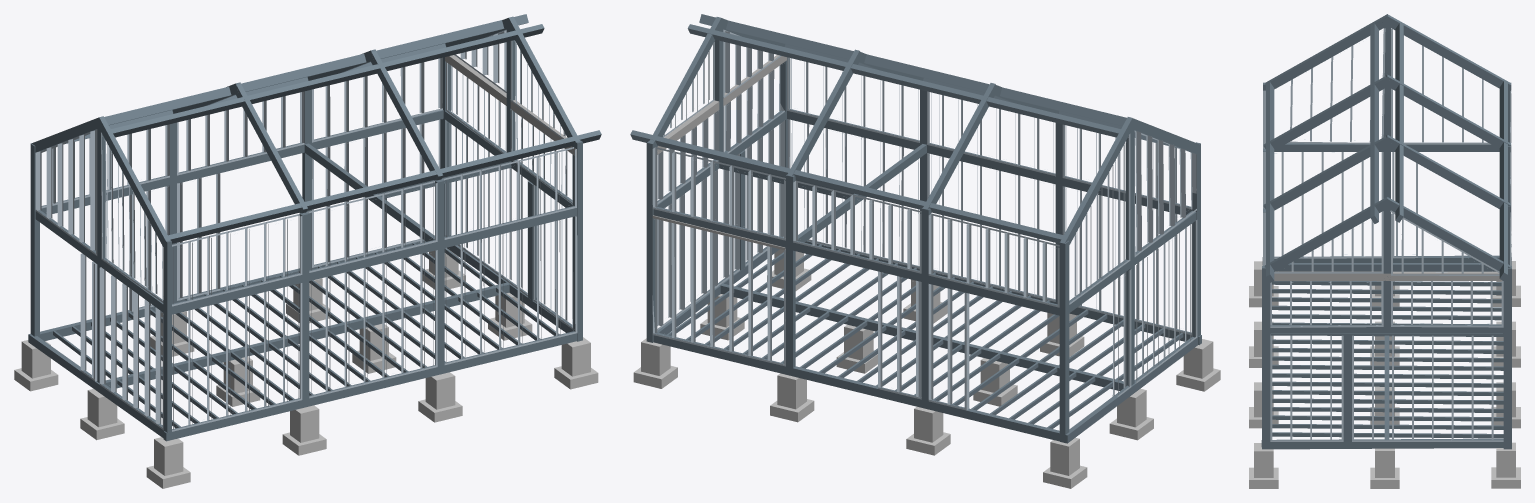
The model's file is casa-juaco.glb.
The picture shows the model from 3 angles, left to right: view 1: azimuth 30°, elevation 25°; view 2: azimuth 150°, elevation 25°; view 3: azimuth 270°, elevation 25°; orthographic projection. The views are drawn at different scales.
Parts seen in each view (by area): view 1: cat:muros-pb, cat:piso, cat:muros-pa, cat:techo, cat:columnas, cat:dados, cat:entrepiso, cat:otros; view 2: cat:muros-pb, cat:piso, cat:muros-pa, cat:techo, cat:columnas, cat:dados, cat:entrepiso, cat:otros; view 3: cat:piso, cat:techo, cat:dados, cat:muros-pa, cat:columnas, cat:muros-pb, cat:entrepiso, cat:otros.
Part boxes in pixels (x1=…): cat:muros-pb: x1=80, y1=119, x2=577, y2=431; cat:piso: x1=28, y1=236, x2=582, y2=441; cat:muros-pa: x1=35, y1=30, x2=576, y2=306; cat:techo: x1=32, y1=14, x2=601, y2=246; cat:columnas: x1=30, y1=28, x2=582, y2=432; cat:dados: x1=14, y1=248, x2=598, y2=488; cat:entrepiso: x1=35, y1=108, x2=576, y2=315; cat:otros: x1=445, y1=55, x2=576, y2=157; cat:muros-pb: x1=652, y1=119, x2=1197, y2=410; cat:piso: x1=653, y1=236, x2=1201, y2=443; cat:muros-pa: x1=652, y1=29, x2=1196, y2=307; cat:techo: x1=630, y1=14, x2=1198, y2=244; cat:columnas: x1=646, y1=26, x2=1200, y2=442; cat:dados: x1=633, y1=249, x2=1220, y2=488; cat:entrepiso: x1=653, y1=108, x2=1196, y2=315; cat:otros: x1=652, y1=55, x2=786, y2=321; cat:piso: x1=1261, y1=255, x2=1503, y2=449; cat:techo: x1=1263, y1=14, x2=1510, y2=282; cat:dados: x1=1249, y1=261, x2=1520, y2=488; cat:muros-pa: x1=1263, y1=28, x2=1511, y2=327; cat:columnas: x1=1262, y1=19, x2=1511, y2=449; cat:muros-pb: x1=1270, y1=152, x2=1503, y2=441; cat:entrepiso: x1=1270, y1=142, x2=1511, y2=335; cat:otros: x1=1274, y1=271, x2=1502, y2=280.
Bounding box in the file's own units: 9.61 × 6.43 × 5.53.
